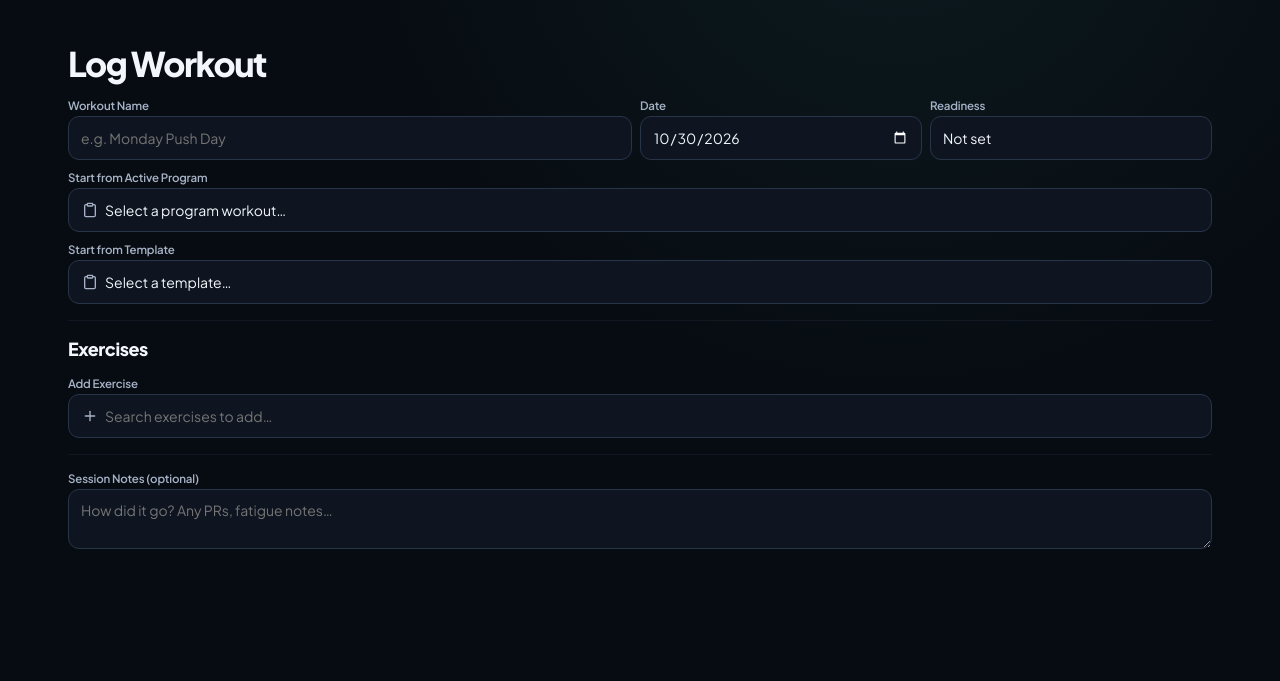
Test: WorkoutLog › starts planning from an active program workout
Select "4" in the dropdown named "readiness". click: [1071, 138]
box: [930,116,1212,160]
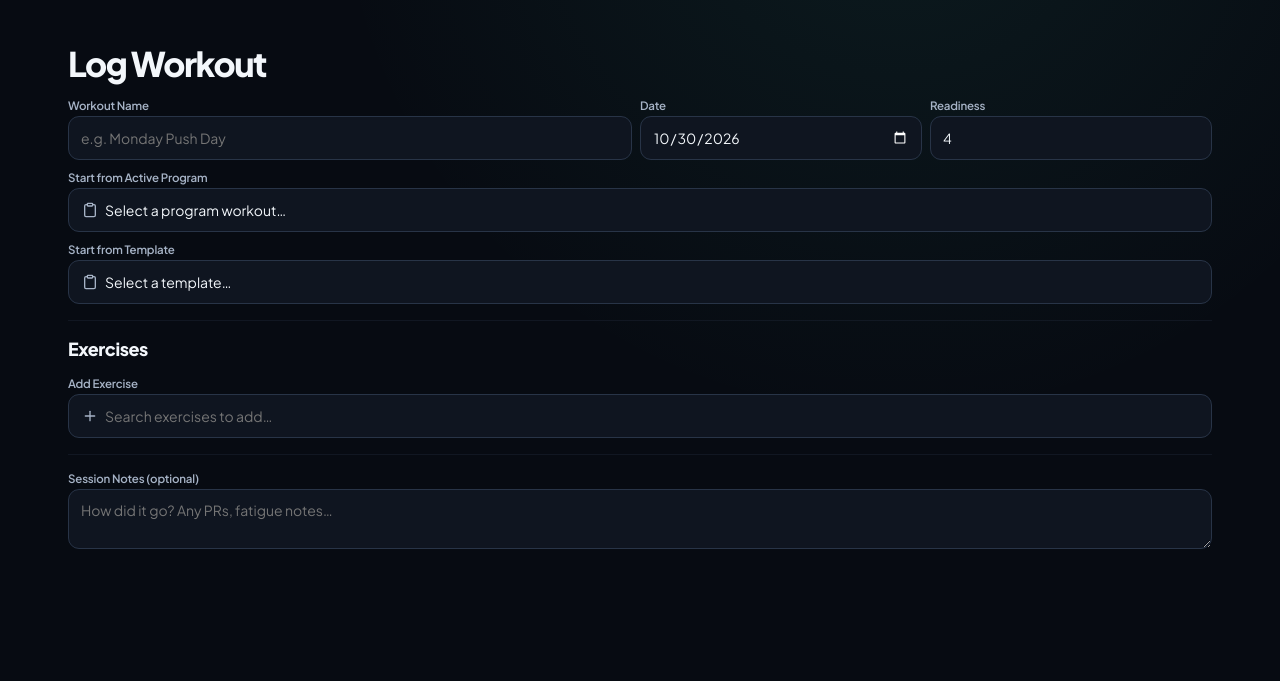
Select "Strength Plan — Today · Push Day" in the dropdown named "strength plan" below "Start from Active Program". click: [640, 210]
box: [68,188,1212,232]
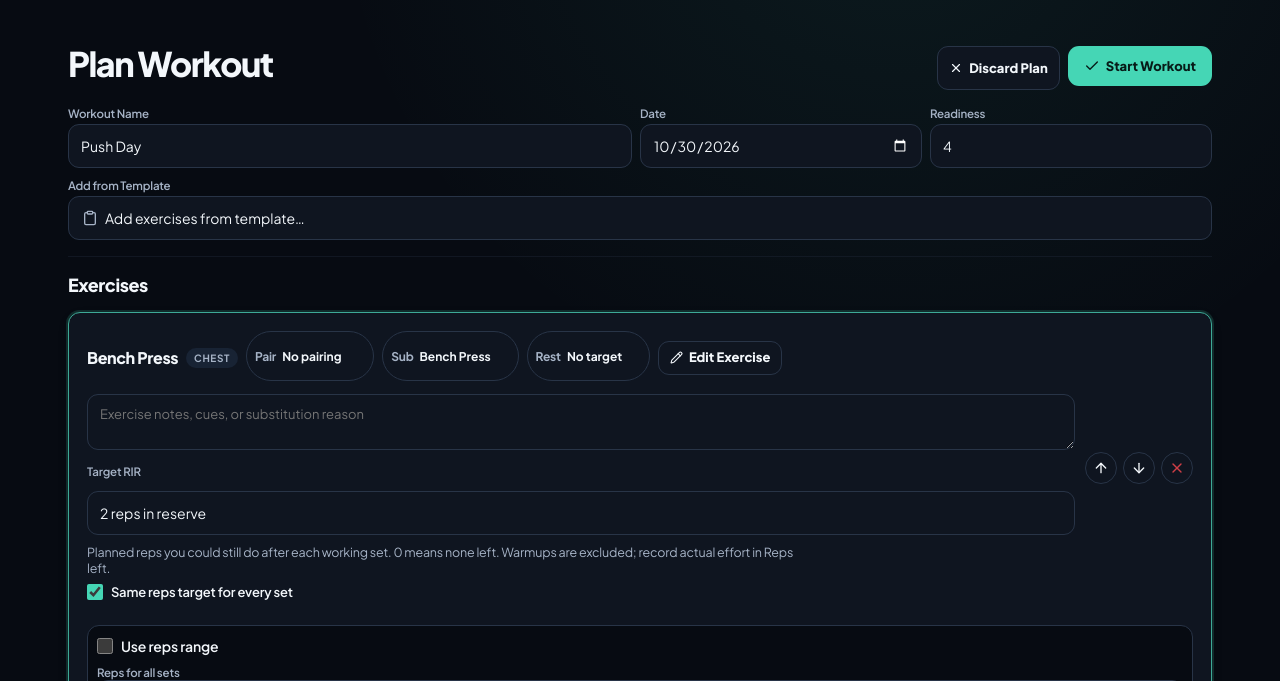
Now the text "Bench Press" is shown, box [87,348,178,367]
